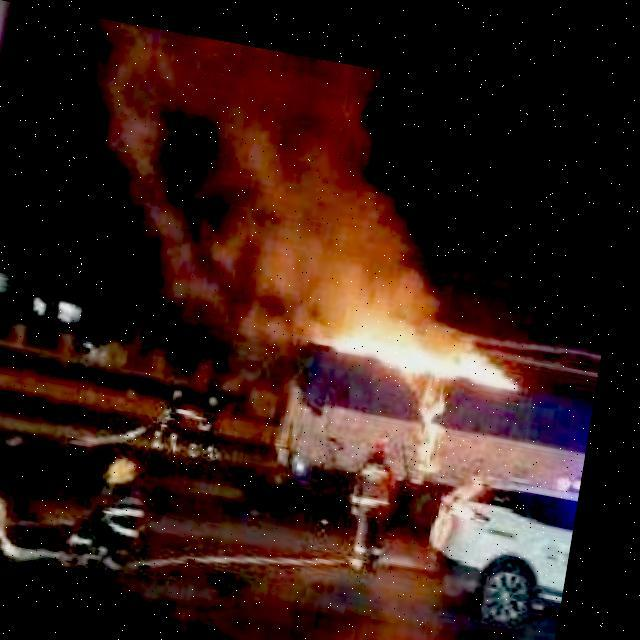Fire: (302, 282, 534, 420)
